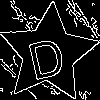D: (23, 28, 68, 81)
